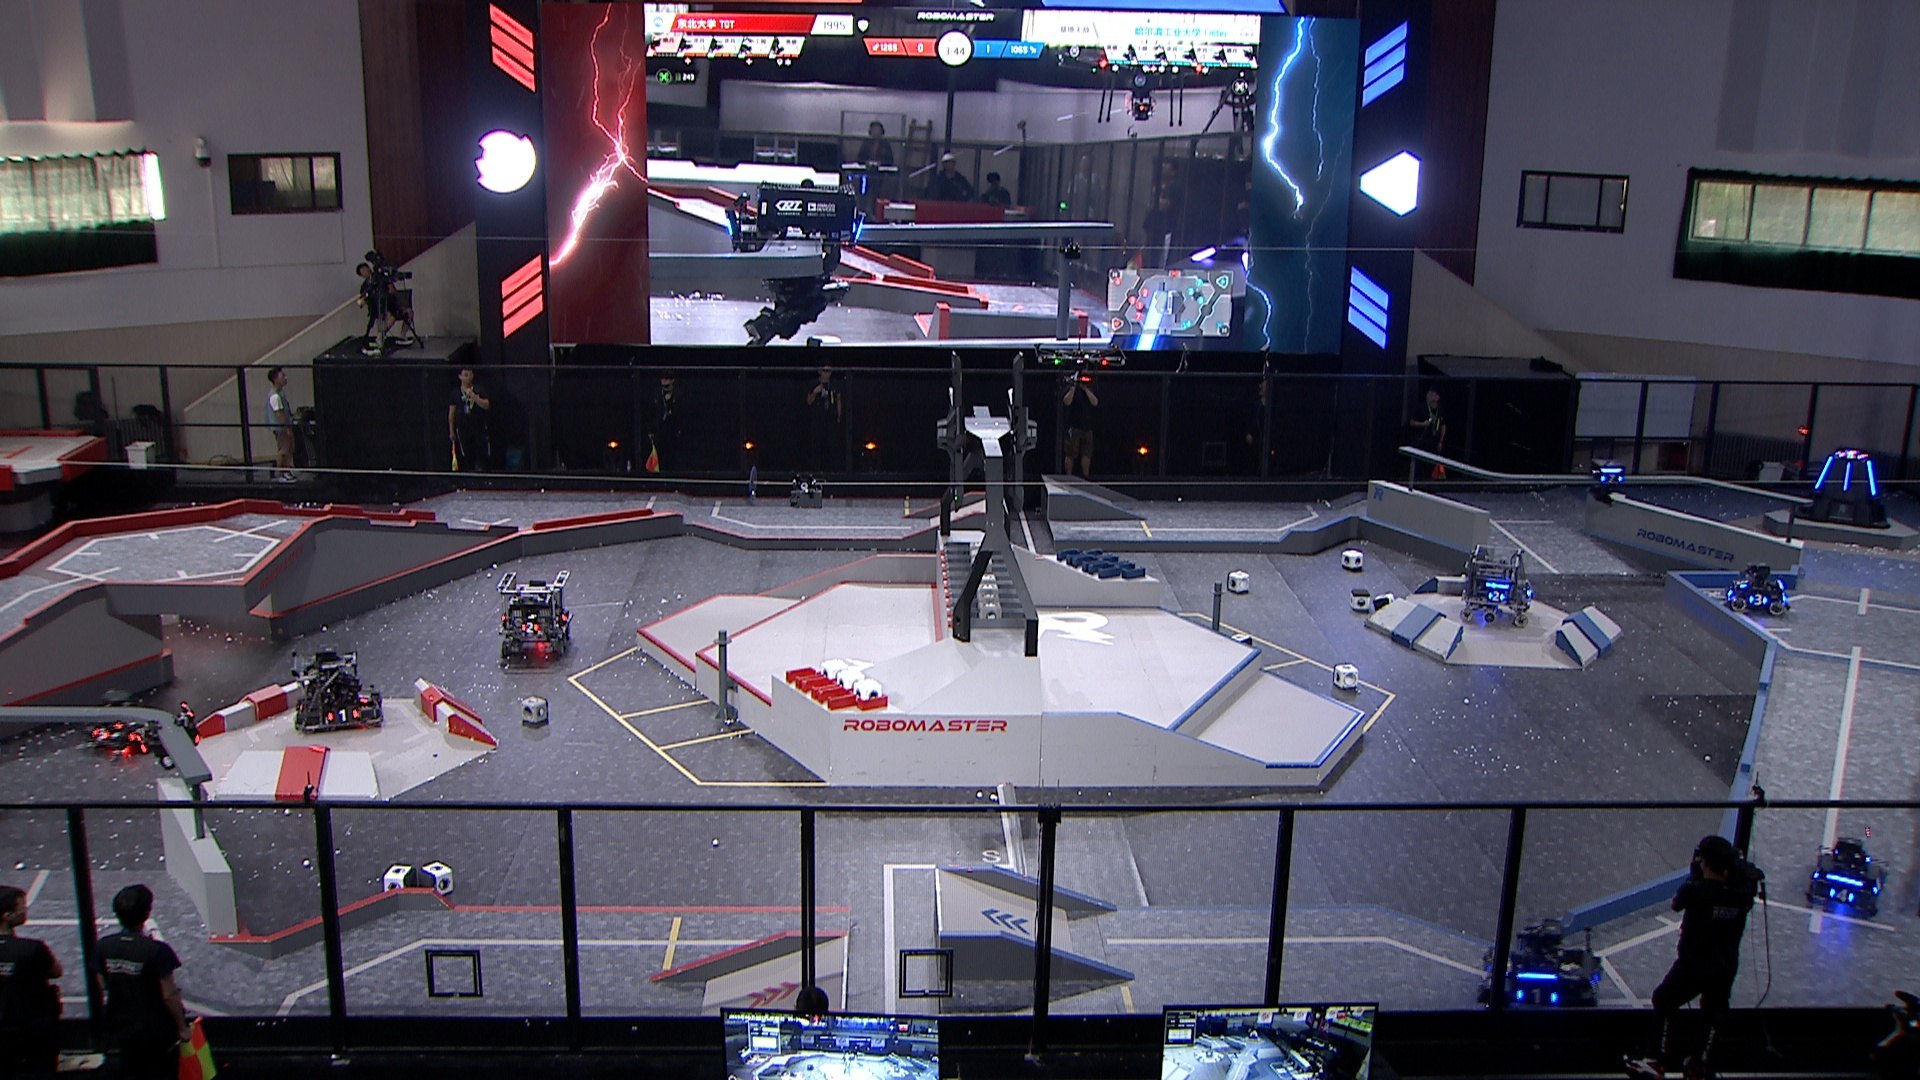armor: (1509, 984, 1560, 1011), (1812, 454, 1833, 491), (324, 708, 363, 727), (1865, 458, 1880, 498), (1826, 885, 1855, 906), (135, 731, 153, 756), (88, 723, 111, 742), (1842, 458, 1854, 493), (1600, 472, 1626, 487), (353, 687, 372, 707), (1484, 589, 1509, 604), (1869, 873, 1884, 895), (1747, 591, 1766, 609), (1720, 582, 1735, 603), (520, 621, 541, 636), (1733, 572, 1750, 589)
base: (1792, 447, 1896, 531)
car: (1476, 918, 1607, 1021), (287, 645, 381, 732), (495, 568, 574, 661), (1457, 538, 1534, 629), (1808, 835, 1890, 915), (78, 684, 156, 752), (1721, 560, 1793, 618)
ignore: (719, 171, 864, 343), (1837, 450, 1865, 462)
watcher: (131, 698, 204, 769), (1586, 458, 1629, 506)
